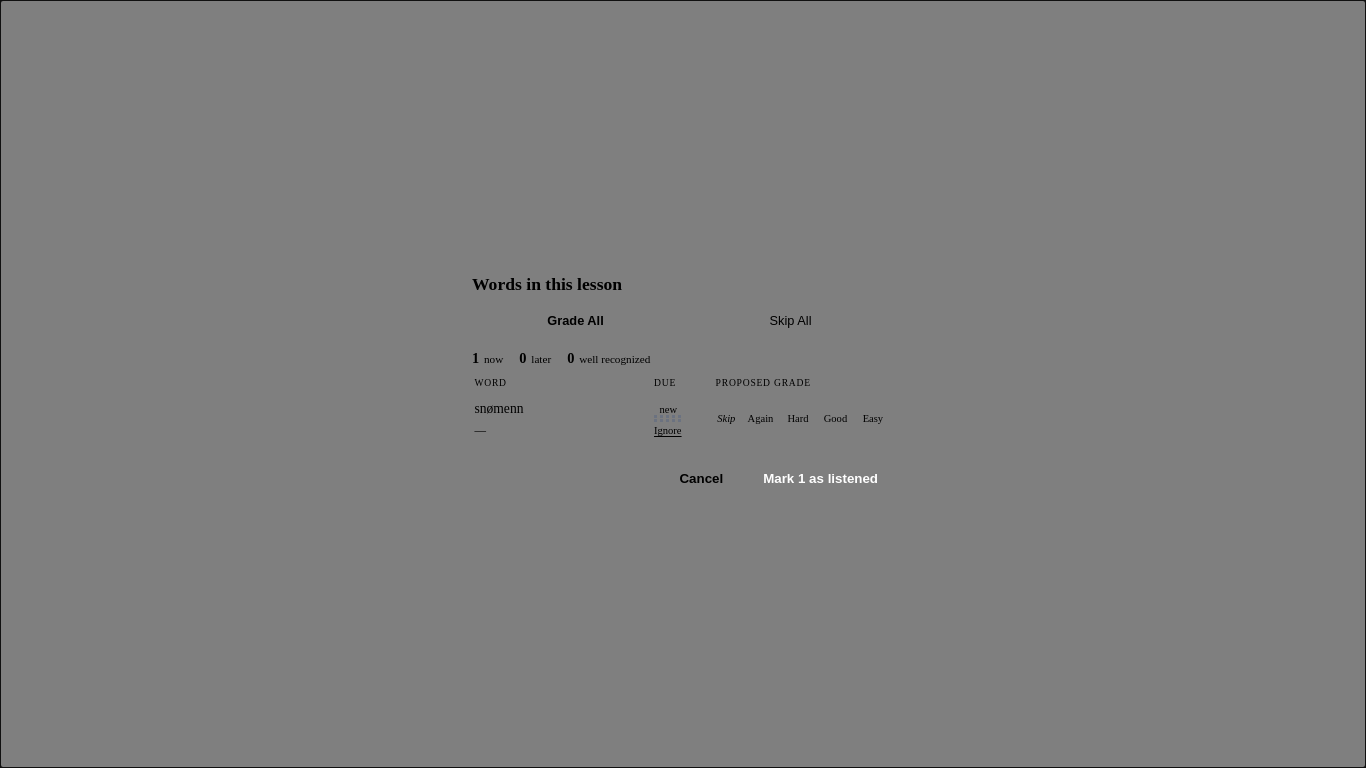
Test: ListenPreviewModal — the Ignore Undo bar › shows the undo bar after a successful ignore, naming the word
expect the text "snømenn" is shown: met, box [474,401,524,416]
Click the button "Ignore".
click(668, 431)  # box [654,424,682,437]
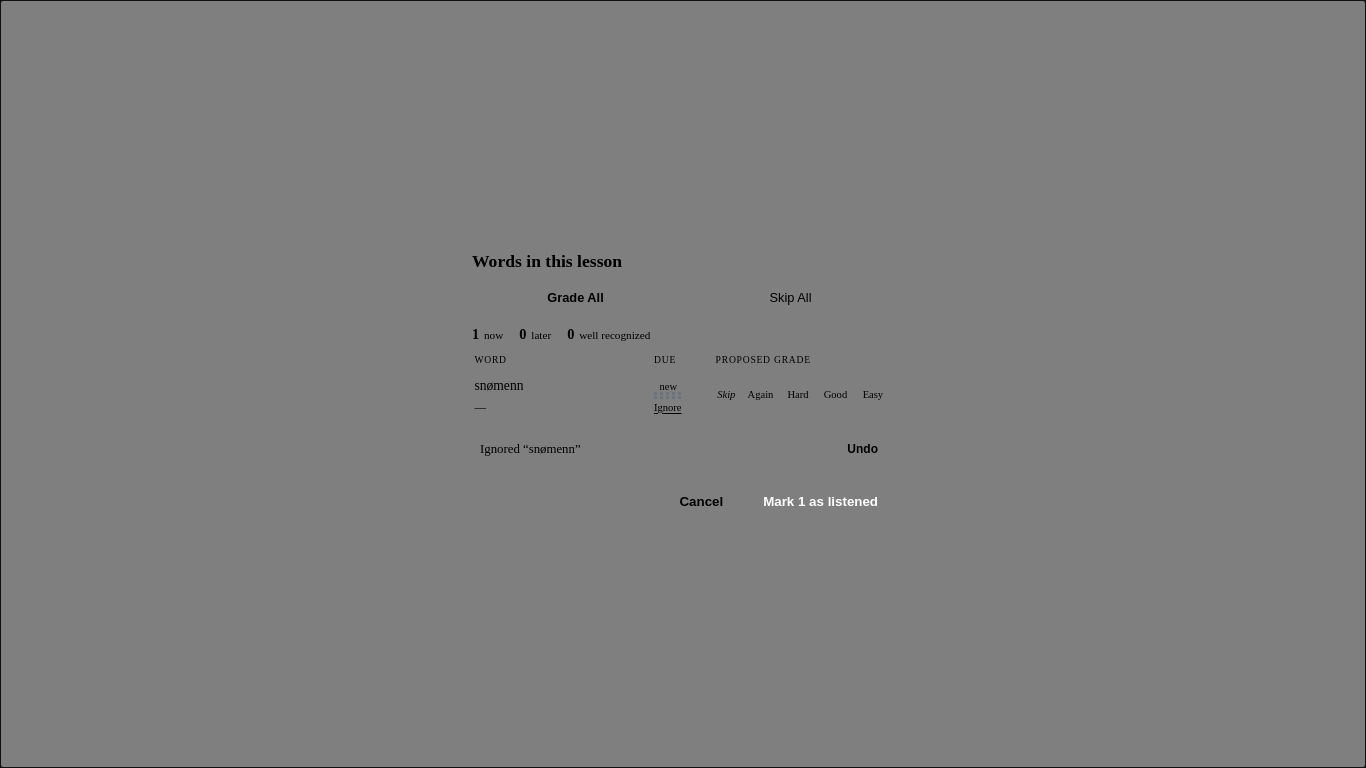
expect the message "Ignored “snømenn” Undo" is shown: met, box [472,432,894,466]
expect the text "Ignored “snømenn”" is shown: met, box [480,442,581,457]
